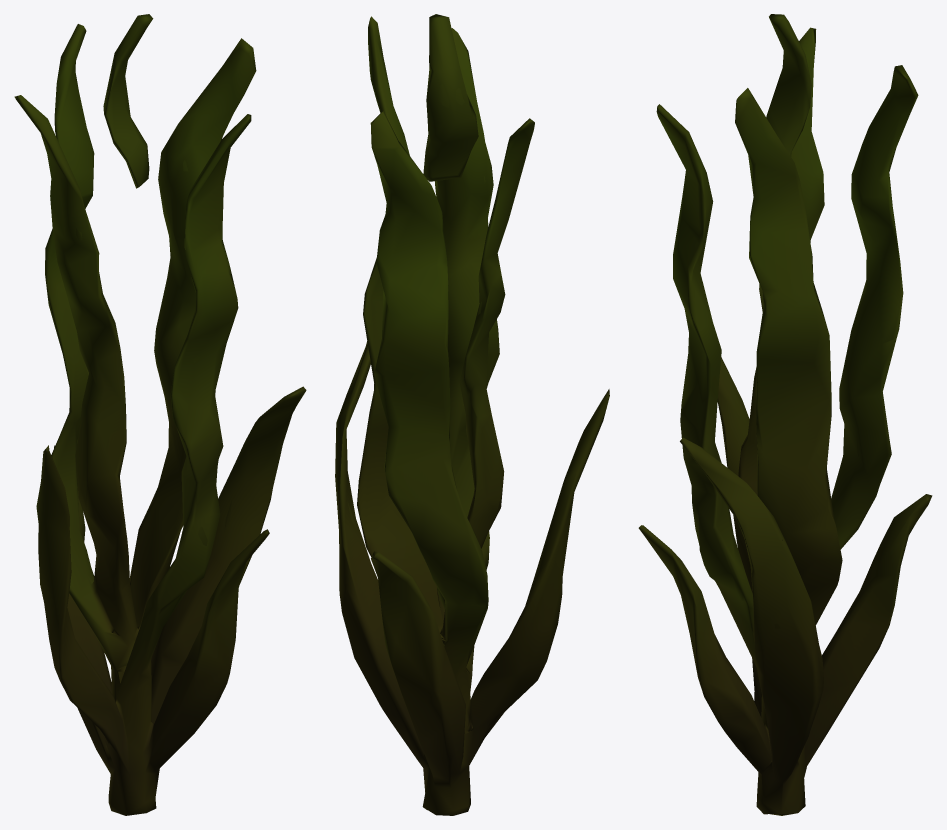
File: gen3d-kelp-lod0.glb
3 views of the same model, side by side, from view 1: azimuth 30°, elevation 25°; view 2: azimuth 150°, elevation 25°; view 3: azimuth 270°, elevation 25° (orthographic).
Visible parts, largest first — view 1: part_0; view 2: part_0; view 3: part_0.
Boxes of the visible parts, x1,y1,x2,y2 form: part_0: (14,14,306,815); part_0: (335,14,609,815); part_0: (638,14,932,815).
Size of the model in its own units: 0.3386 by 0.9974 by 0.334.
